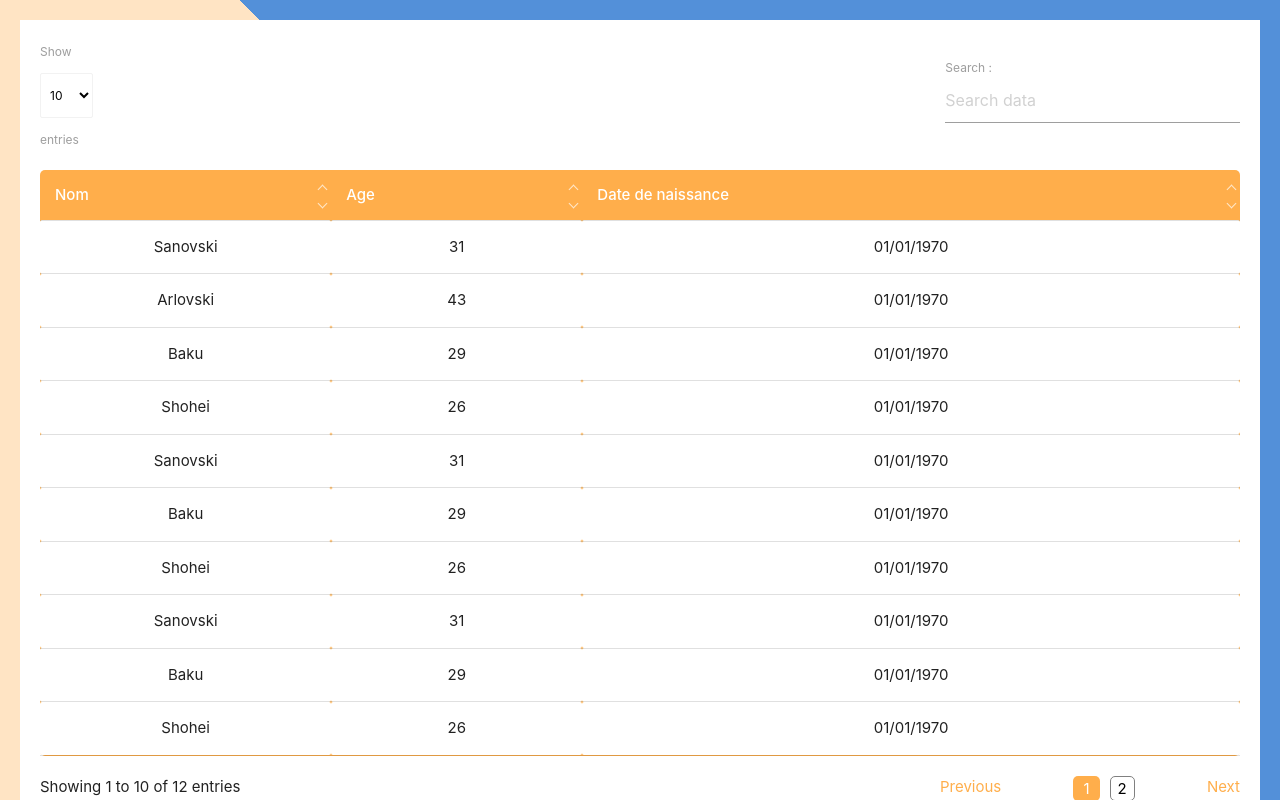
Test: hides all data that is not linked with search input
The width and height of the screenshot is (1280, 800).
In the search field with test id "search": (1093, 100) [945,77,1240,123], type "Baku"
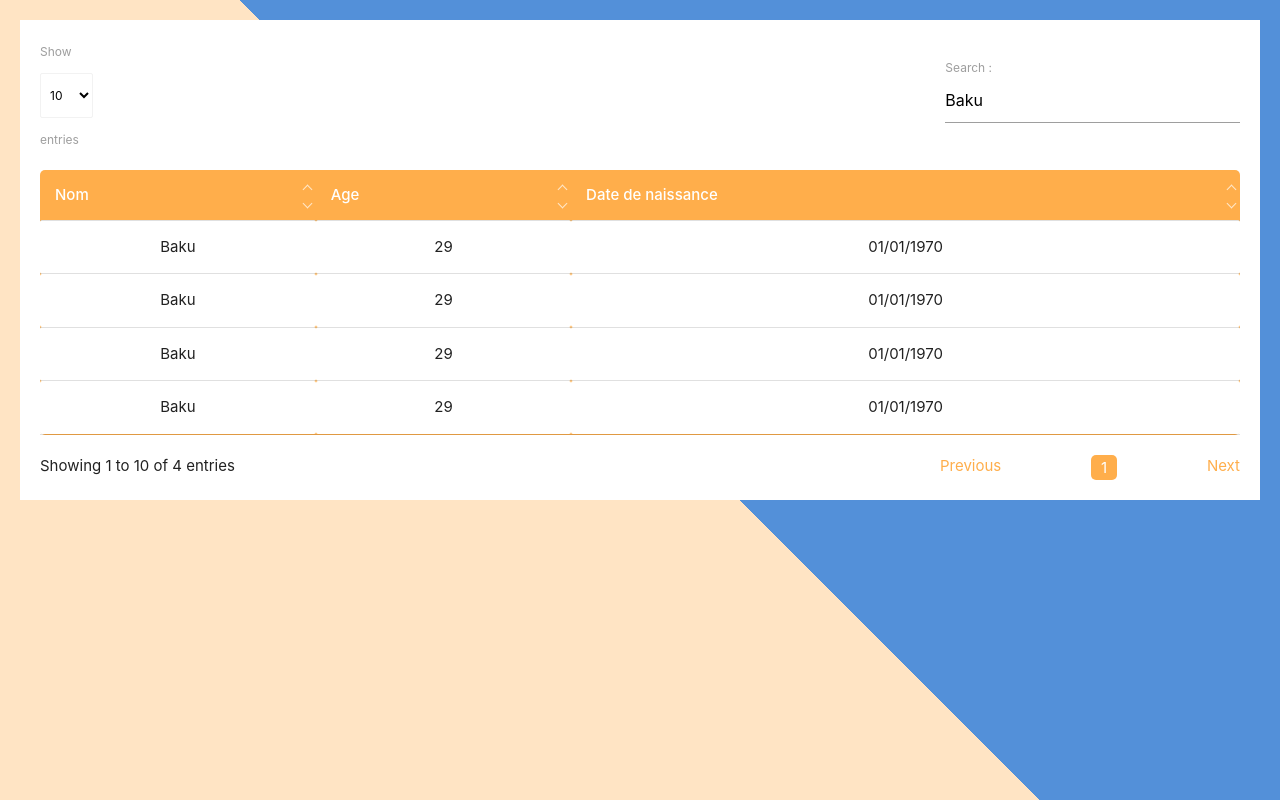
Now the table no longer shows "Shohei", box [40,170,1240,434]
